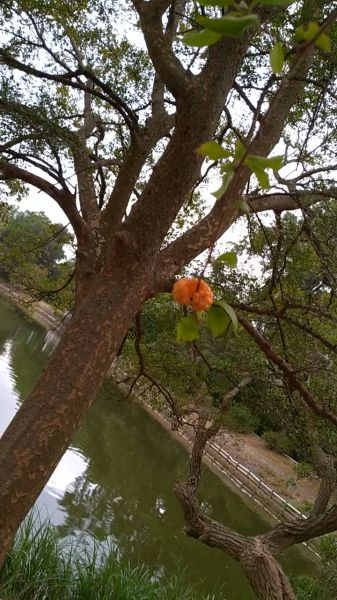eggs: (170, 270, 220, 312)
